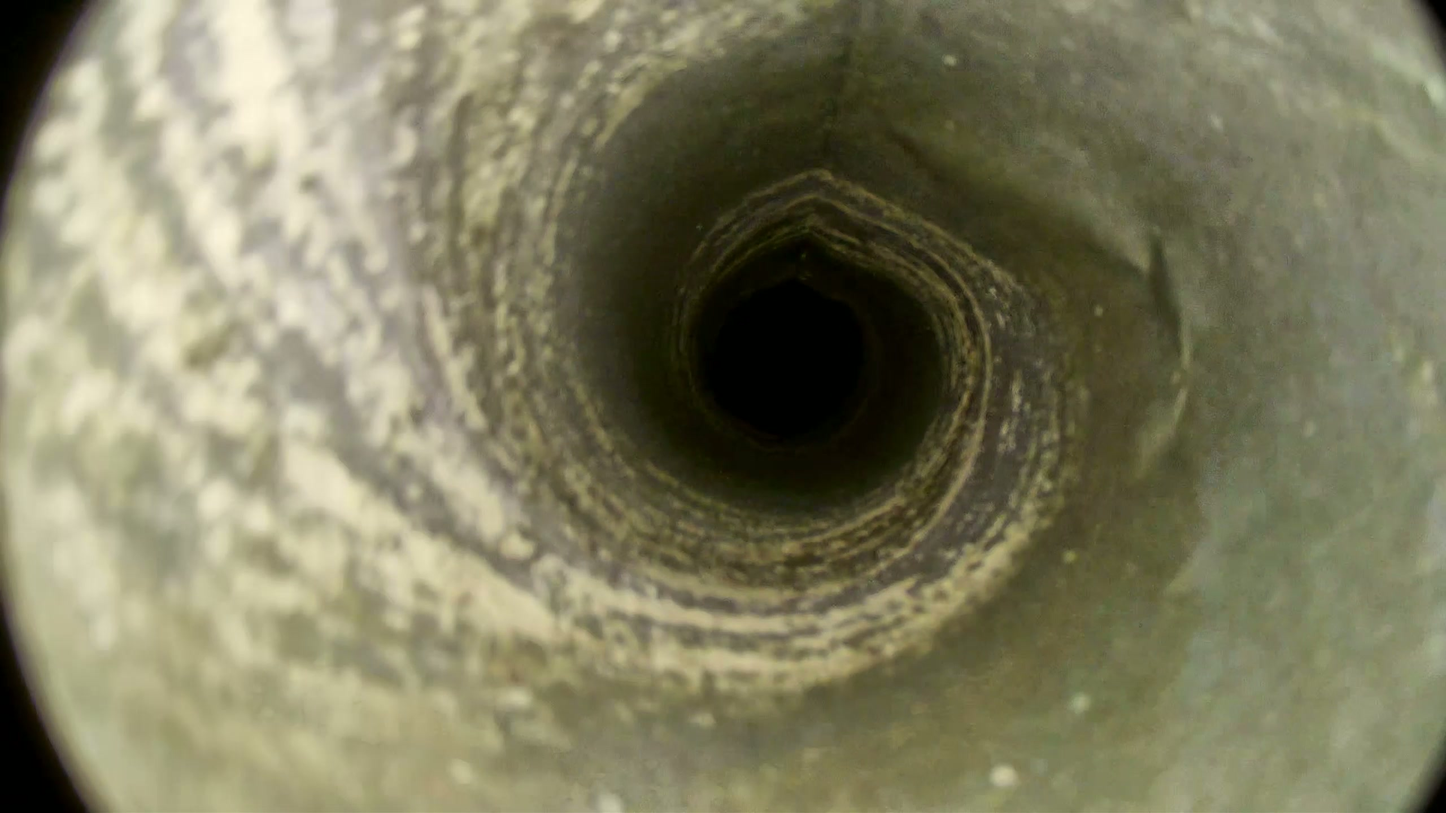hole: (713, 282, 863, 438)
